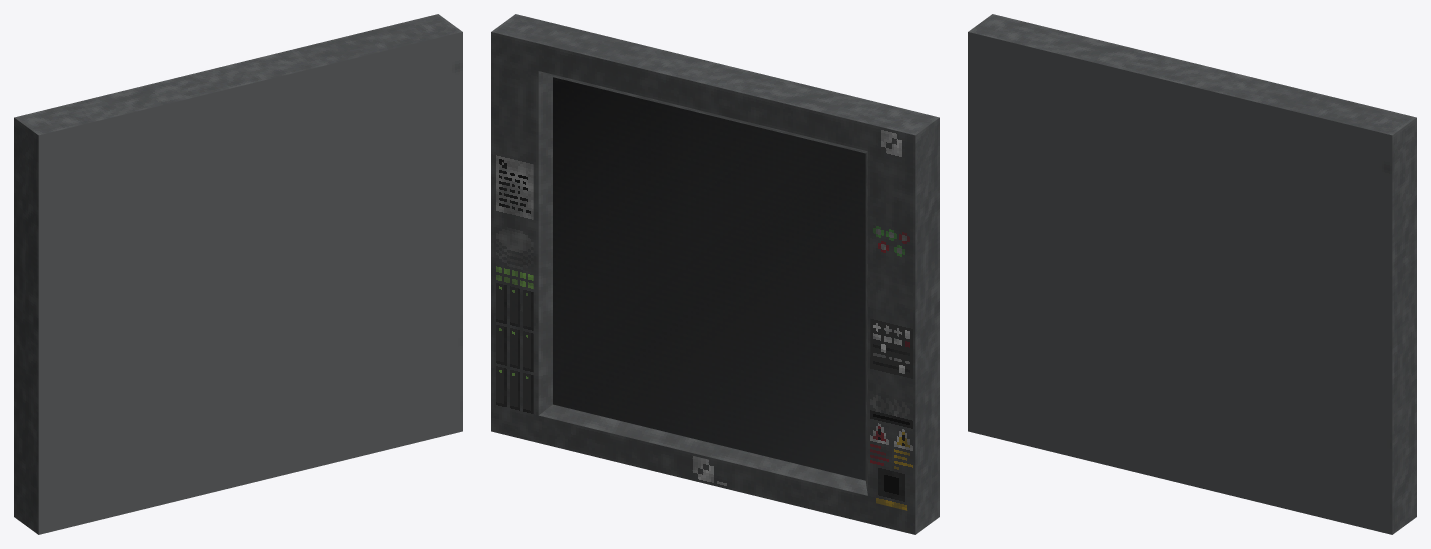
File: GiantTerminal.gltf
3 views of the same model, side by side, from view 1: azimuth 30°, elevation 25°; view 2: azimuth 150°, elevation 25°; view 3: azimuth 330°, elevation 25° (orthographic).
Visible parts, largest first — view 1: screen; view 2: screen; view 3: screen.
Boxes of the visible parts, x1=… form: screen: x1=14, y1=14, x2=462, y2=534; screen: x1=491, y1=14, x2=939, y2=534; screen: x1=968, y1=14, x2=1416, y2=534.
Size of the model in its own units: 5 by 4.5 by 0.5.
1 material, 1 textured.
